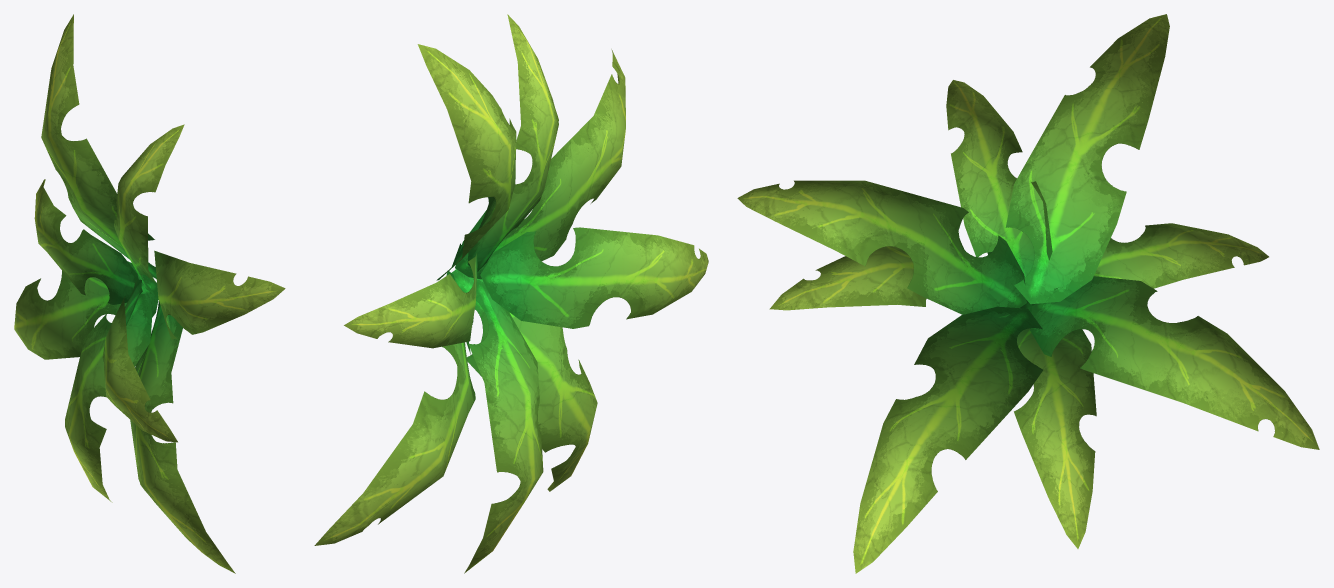
Rendered from SimpleFoliage2.fbx.
3 renders of one model, left to right at view 1: azimuth 30°, elevation 25°; view 2: azimuth 150°, elevation 25°; view 3: azimuth 270°, elevation 25°, orthographic. The views are drawn at different scales.
Visible parts, largest first — view 1: SimpleFoliage; view 2: SimpleFoliage; view 3: SimpleFoliage.
Part boxes in pixels (x1,y1,x2,y2): SimpleFoliage: [14, 14, 285, 573]; SimpleFoliage: [314, 14, 708, 573]; SimpleFoliage: [737, 14, 1319, 573].
Bounding box in the file's own units: 132 × 136 × 36.26.
